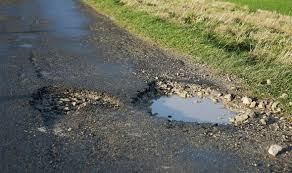pothole: (129, 75, 275, 140), (20, 81, 131, 126)
